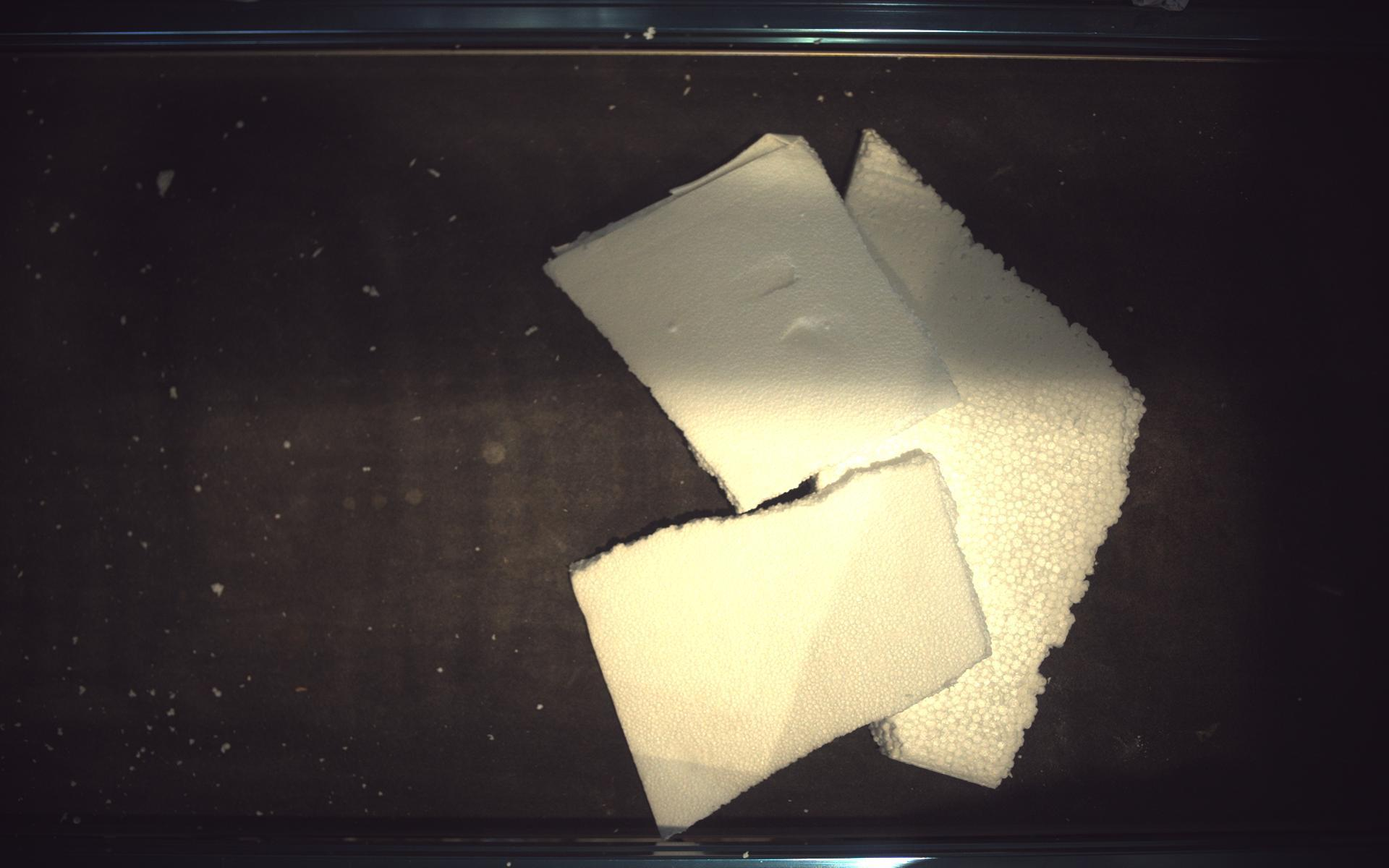foam: (819, 130, 1147, 788), (572, 455, 991, 835), (545, 133, 960, 513)
